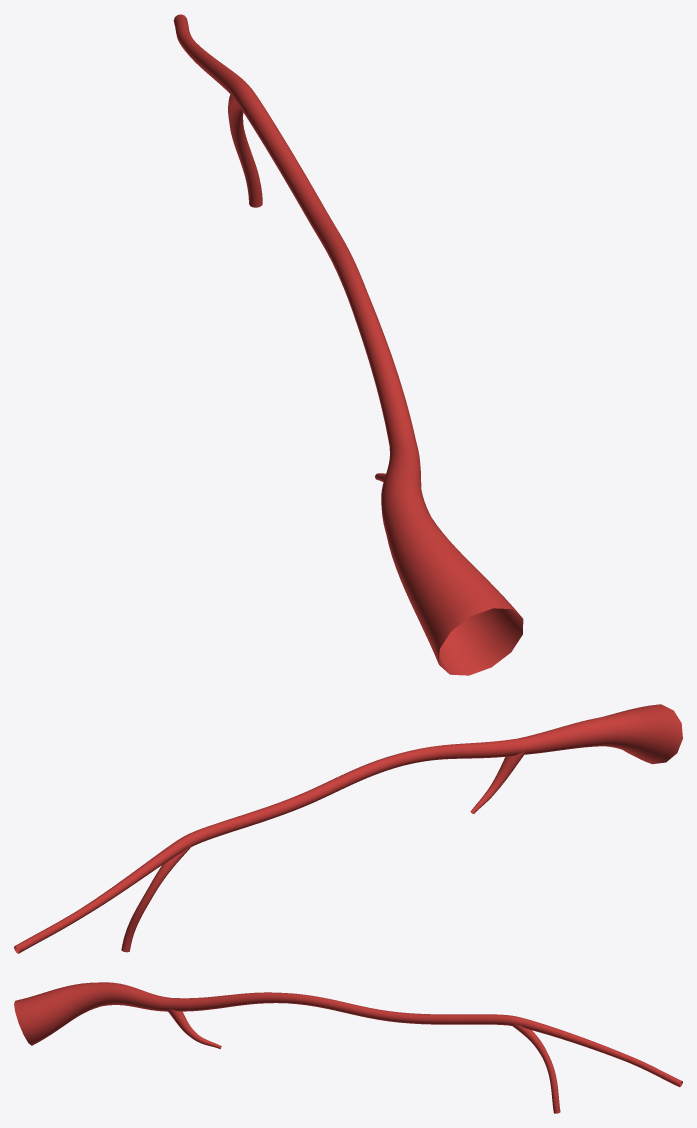
3 renders of one model, top to bottom at view 1: azimuth 30°, elevation 25°; view 2: azimuth 150°, elevation 25°; view 3: azimuth 270°, elevation 25°, orthographic. The views are drawn at different scales.
Visible parts, largest first — view 1: 右侧下牙槽动脉下颌舌骨肌支; view 2: 右侧下牙槽动脉下颌舌骨肌支; view 3: 右侧下牙槽动脉下颌舌骨肌支.
Part boxes in pixels (x1,y1,x2,y2): 右侧下牙槽动脉下颌舌骨肌支: (173,14,523,675); 右侧下牙槽动脉下颌舌骨肌支: (14,704,682,953); 右侧下牙槽动脉下颌舌骨肌支: (14,982,682,1113).
Bounding box in the file's own units: 0.00998 × 0.00418 × 0.0286.
